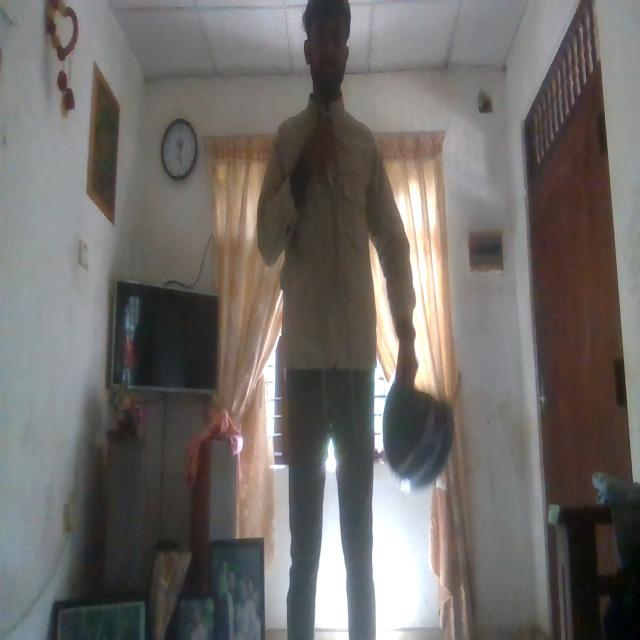Jacket_Wearer: (253, 84, 419, 373)
Person: (254, 0, 413, 640)
